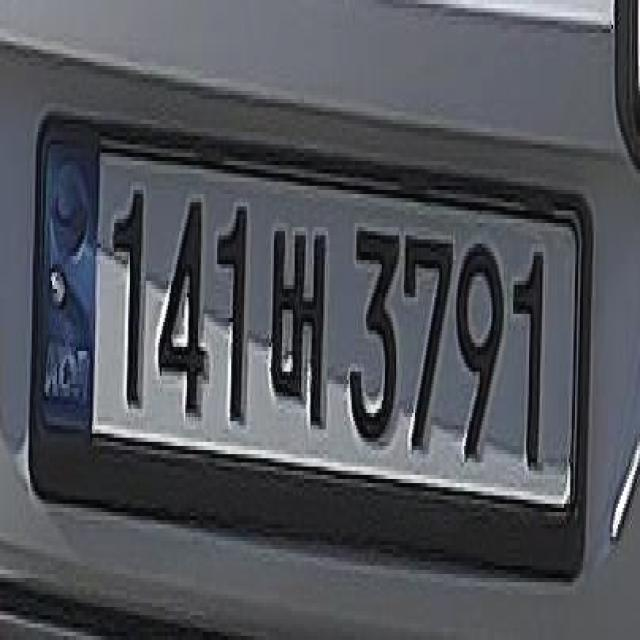illegal_plate: (26, 115, 593, 557)
